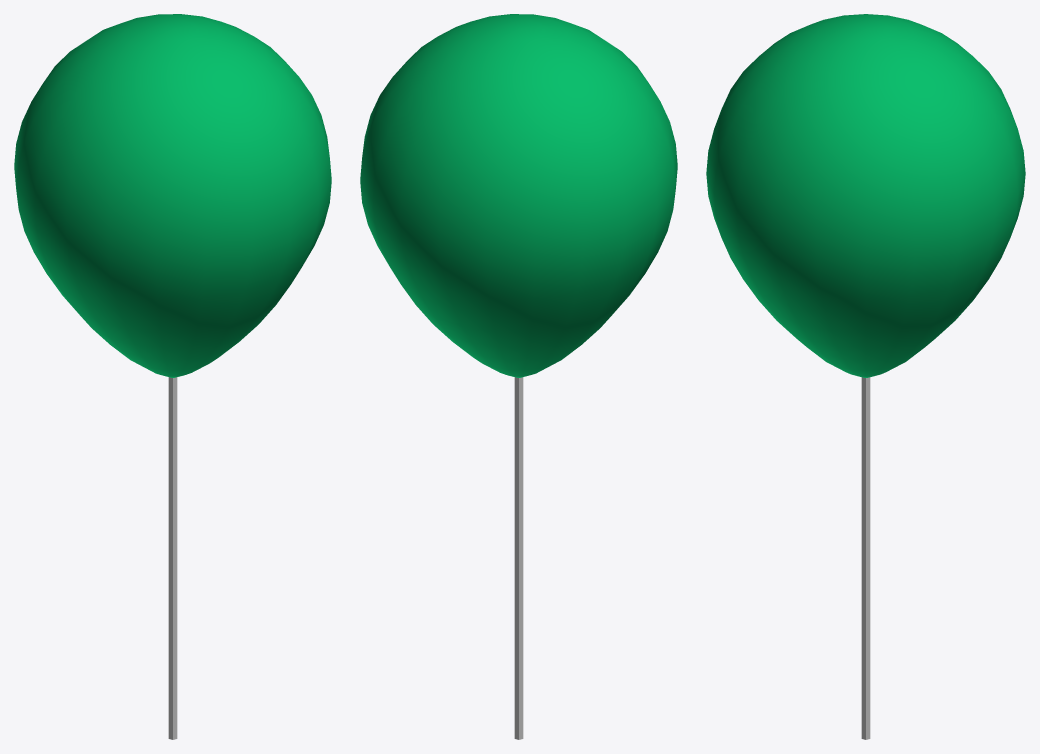
The model's file is BALLOON 3.fbx.
3 views of the same model, side by side, from view 1: azimuth 30°, elevation 25°; view 2: azimuth 150°, elevation 25°; view 3: azimuth 270°, elevation 25° (orthographic).
Parts seen in each view (by area): view 1: pSphere1, pCylinder1; view 2: pSphere1, pCylinder1; view 3: pSphere1, pCylinder1.
Boxes of the visible parts, x1,y1,x2,y2 form: pSphere1: [14, 14, 331, 377]; pCylinder1: [168, 377, 177, 739]; pSphere1: [360, 14, 677, 377]; pCylinder1: [514, 377, 523, 739]; pSphere1: [706, 14, 1025, 377]; pCylinder1: [861, 377, 870, 739].
Bounding box in the file's own units: 2 × 4.9 × 2.
2 materials, 1 textured.
